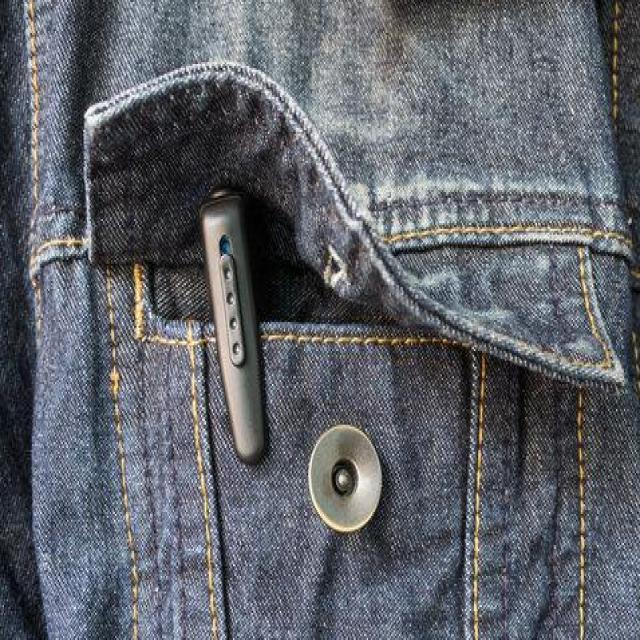hidden camera: (213, 219, 238, 268)
